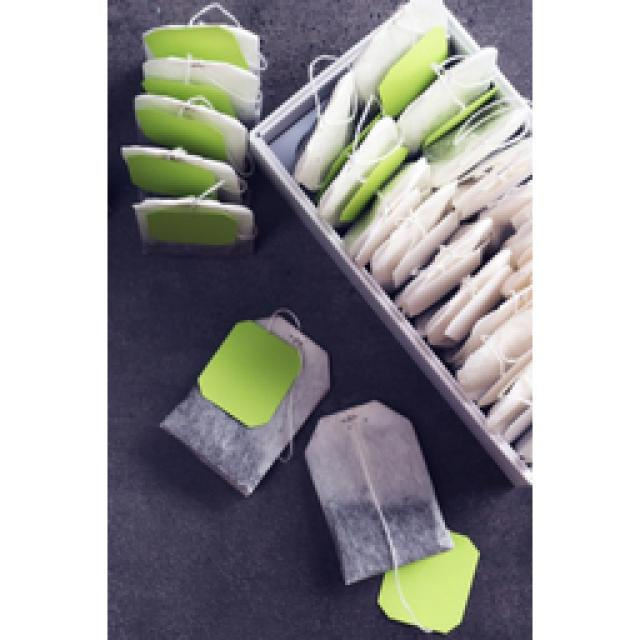tea-bags: (294, 6, 531, 466), (306, 399, 479, 636), (120, 23, 263, 257), (158, 315, 330, 497)
